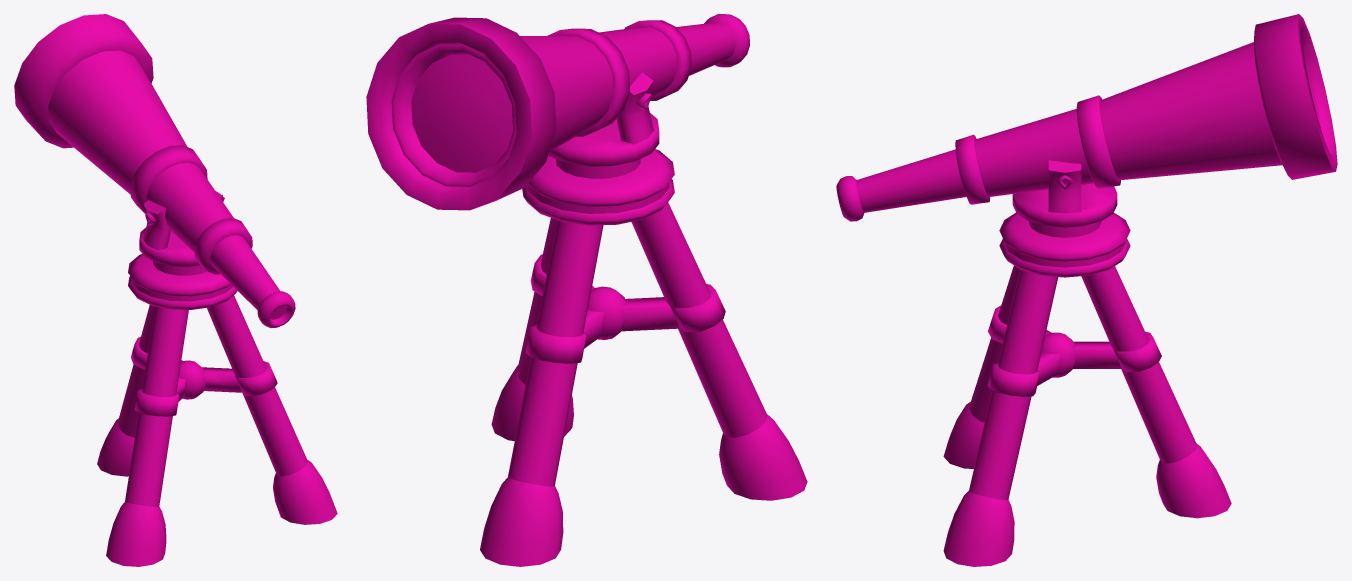
File: SUP_INT_Telescope.fbx
The picture shows the model from 3 angles, left to right: view 1: azimuth 30°, elevation 25°; view 2: azimuth 150°, elevation 25°; view 3: azimuth 270°, elevation 25°; orthographic projection. The views are drawn at different scales.
Parts seen in each view (by area): view 1: m_Telescope; view 2: m_Telescope; view 3: m_Telescope.
Boxes of the visible parts, <box> form: m_Telescope: <box>14,14,337,566</box>; m_Telescope: <box>366,14,807,566</box>; m_Telescope: <box>836,14,1337,566</box>.
Size of the model in its own units: 209 by 373 by 351.
